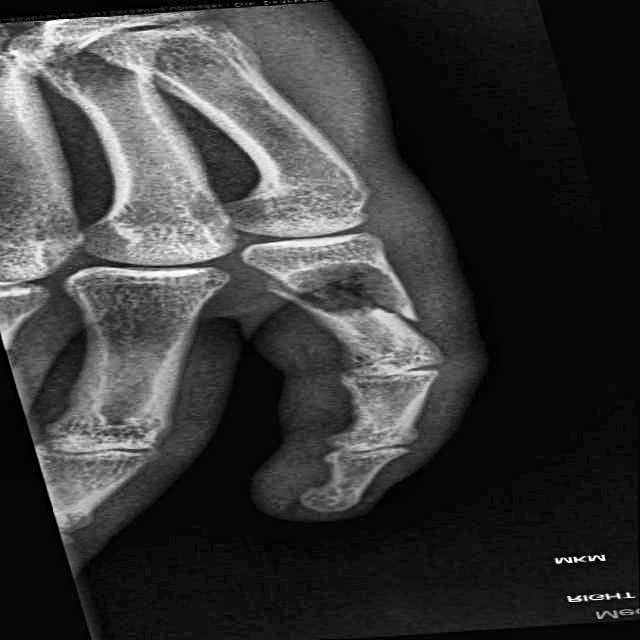Greenstick: (246, 236, 457, 351)
